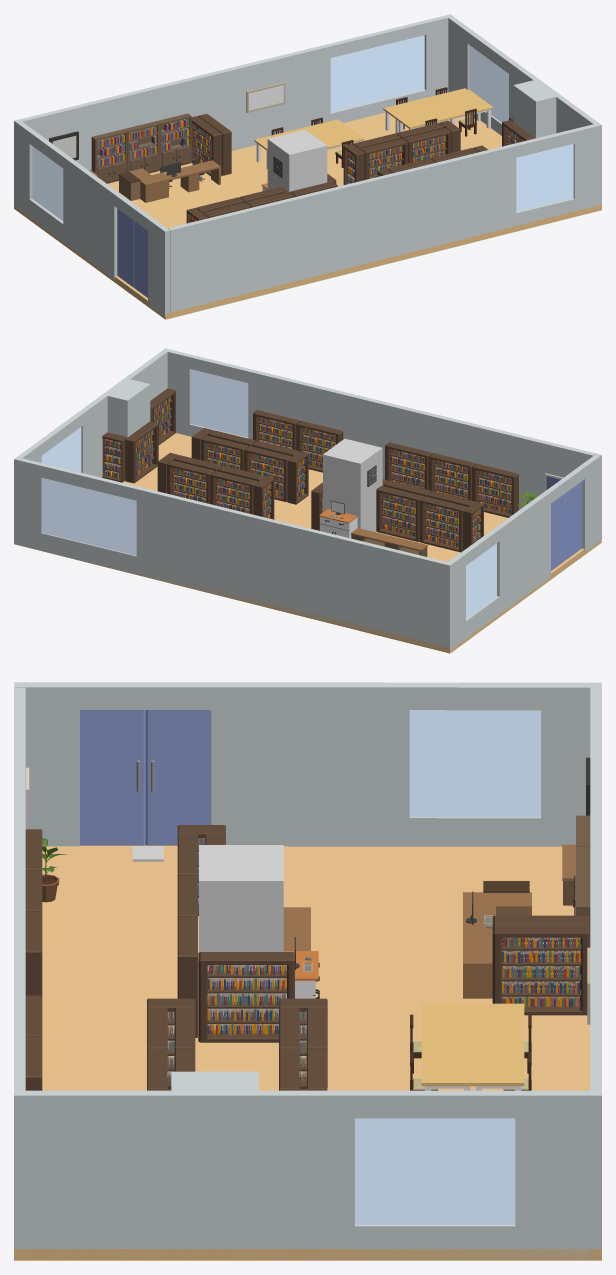
File: Library_Inside.glb
3 views of the same model, one above another, from view 1: azimuth 30°, elevation 25°; view 2: azimuth 150°, elevation 25°; view 3: azimuth 270°, elevation 25° (orthographic). The views are drawn at different scales.
Visible parts, largest first — view 1: Cube.003, Cube, Cube.008, Cube.002, Cube.005, Cube.001, Cube.004, Cube.007, Cube.009, Cube.006, Cube.010, SM_MERGED_StaticMeshActor_1433 (+20 smaller); view 2: Cube, Cube.003, Cube.008, Cube.005, Cube.002, Cube.001, Cube.007, Cube.004, SM_MERGED_StaticMeshActor_1285, SM_MERGED_StaticMeshActor_1284, Cube.009, SM_MERGED_StaticMeshActor_1278 (+21 smaller); view 3: Cube.002, Cube.005, Cube.008, Cube.006, Cube.009, Cube.010, Cube.007, SM_MERGED_StaticMeshActor_1275, SM_MERGED_StaticMeshActor_6768, Cube, Cube.003, SM_Table_1B6 (+28 smaller).
Part boxes in pixels (box(x1,y1,x2,y2)): Cube.003: box(168, 123, 601, 312); Cube: box(19, 14, 452, 170); Cube.008: box(14, 119, 170, 316); Cube.002: box(14, 112, 601, 319); Cube.005: box(448, 16, 598, 138); Cube.001: box(330, 35, 424, 111); Cube.004: box(516, 144, 573, 211); Cube.007: box(267, 129, 327, 192); Cube.009: box(117, 208, 147, 297); Cube.006: box(469, 45, 508, 122); Cube.010: box(32, 146, 63, 220); SM_MERGED_StaticMeshActor_1433: box(91, 129, 127, 183); Cube: box(14, 457, 447, 649); Cube.003: box(163, 348, 596, 509); Cube.008: box(445, 453, 601, 650); Cube.005: box(17, 350, 167, 477); Cube.002: box(35, 433, 601, 653); Cube.001: box(42, 478, 136, 555); Cube.007: box(323, 438, 382, 531); Cube.004: box(190, 369, 248, 437); SM_MERGED_StaticMeshActor_1285: box(419, 496, 467, 552); SM_MERGED_StaticMeshActor_1284: box(376, 486, 423, 541); Cube.009: box(551, 481, 581, 570); SM_MERGED_StaticMeshActor_1278: box(472, 463, 518, 517); Cube.002: box(14, 845, 601, 1260); Cube.005: box(25, 1071, 590, 1260); Cube.008: box(14, 682, 601, 846); Cube.006: box(355, 1118, 515, 1224); Cube.009: box(80, 710, 211, 845); Cube.010: box(409, 710, 540, 817); Cube.007: box(199, 845, 283, 1030); SM_MERGED_StaticMeshActor_1275: box(492, 924, 589, 1015); SM_MERGED_StaticMeshActor_6768: box(198, 952, 294, 1042); Cube: box(590, 687, 601, 1259); Cube.003: box(14, 687, 25, 1257); SM_Table_1B6: box(472, 1043, 524, 1090).
Size of the model in its own units: 23.11 by 4.45 by 13.89.
6 materials, 1 textured.
